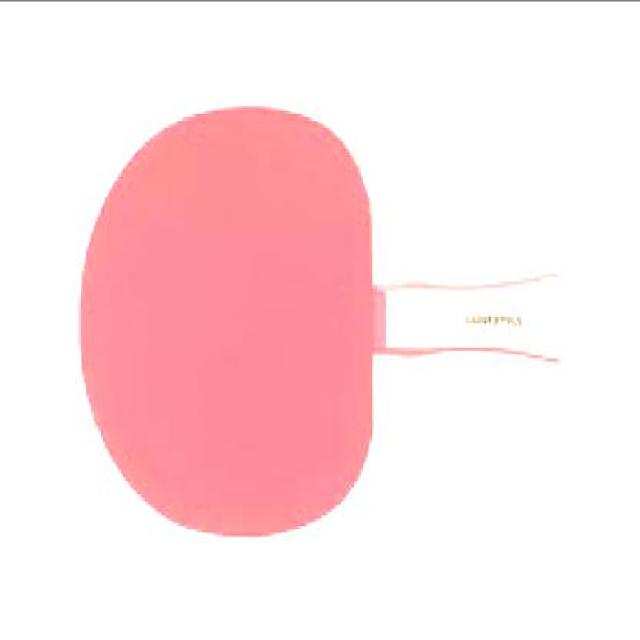table_tennis_racket: (73, 98, 393, 544)
